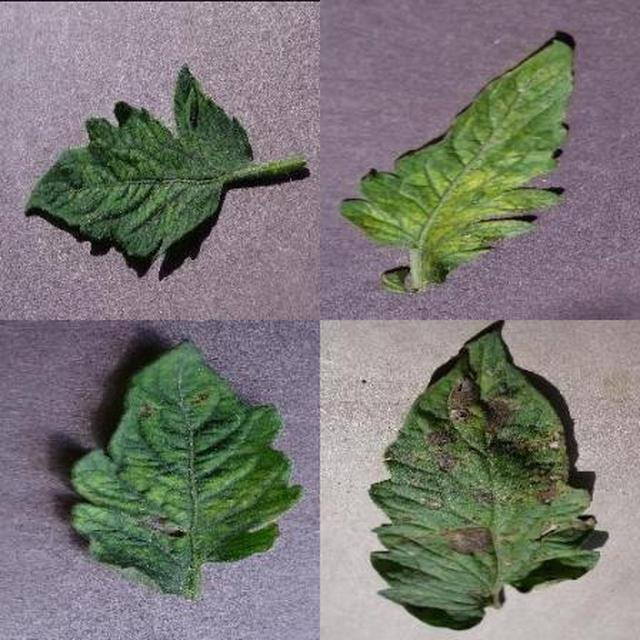Mosaic Virus Leaf: (202, 209, 640, 640)
